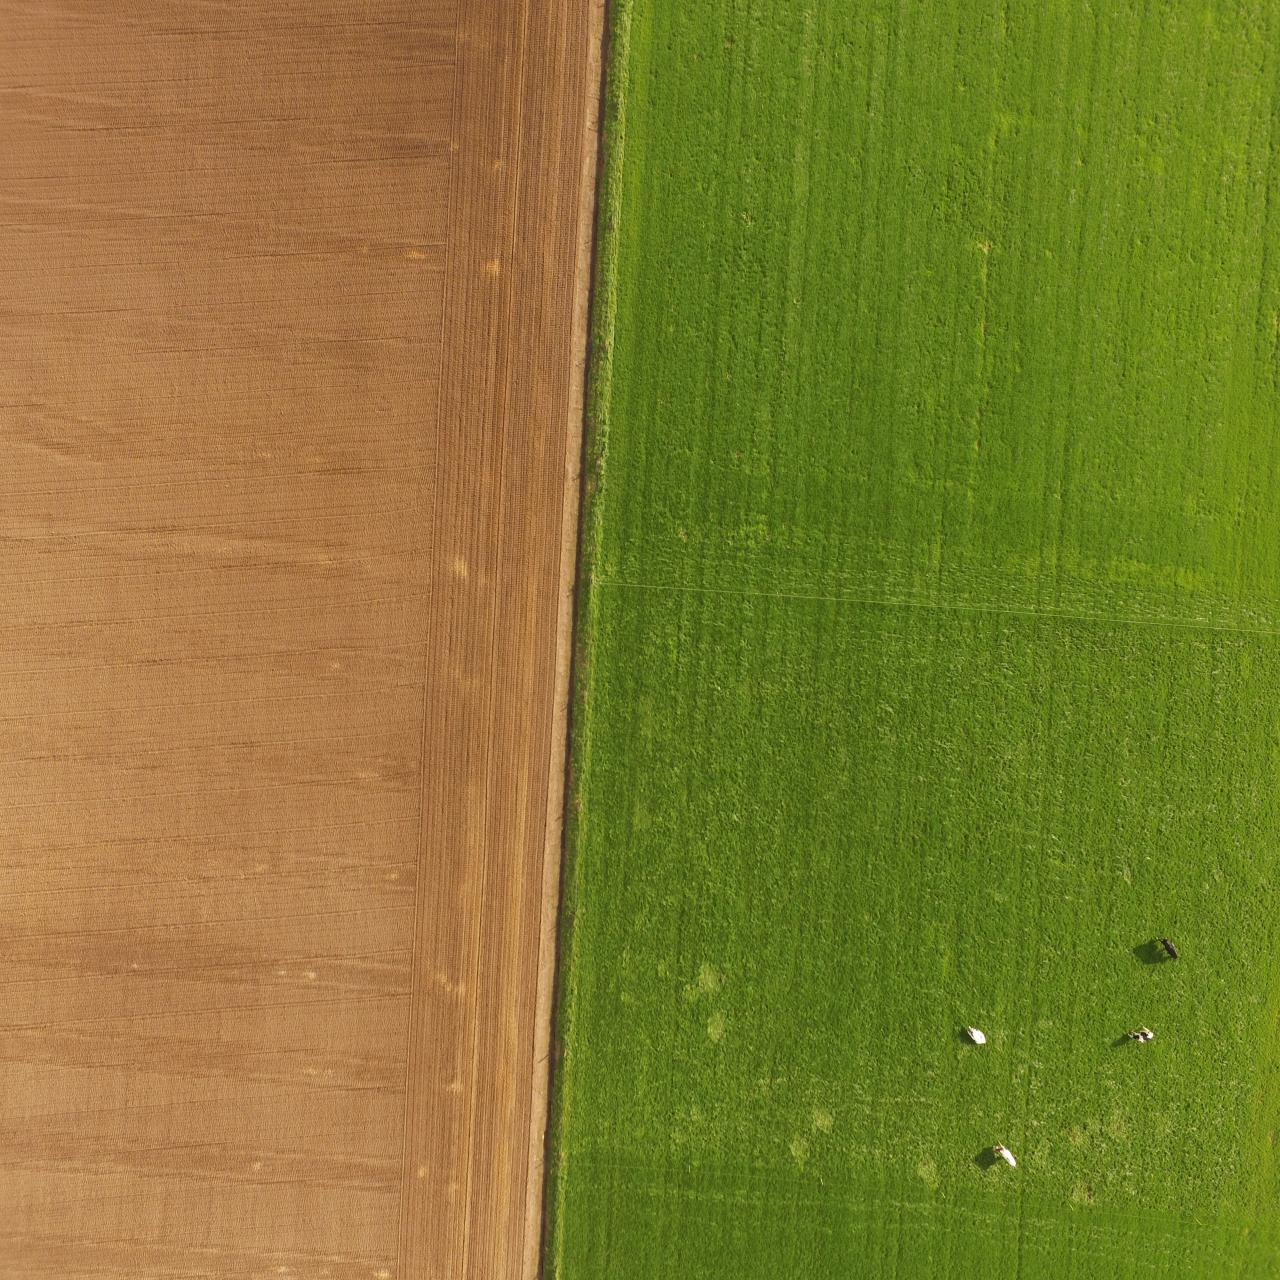cow: (989, 1137, 1020, 1173), (962, 1019, 989, 1051), (1125, 1020, 1156, 1048), (1156, 932, 1180, 965)
